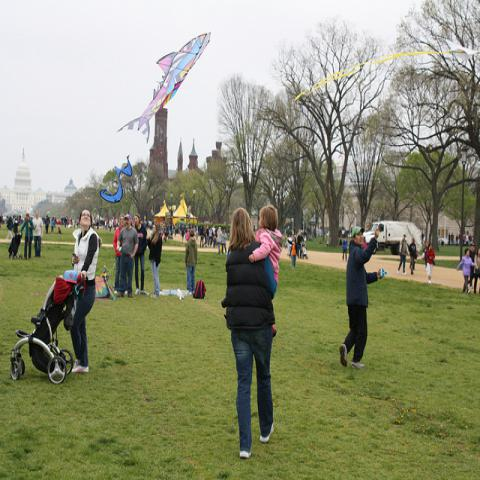car: (438, 238, 449, 245)
truck: (363, 223, 413, 251)
